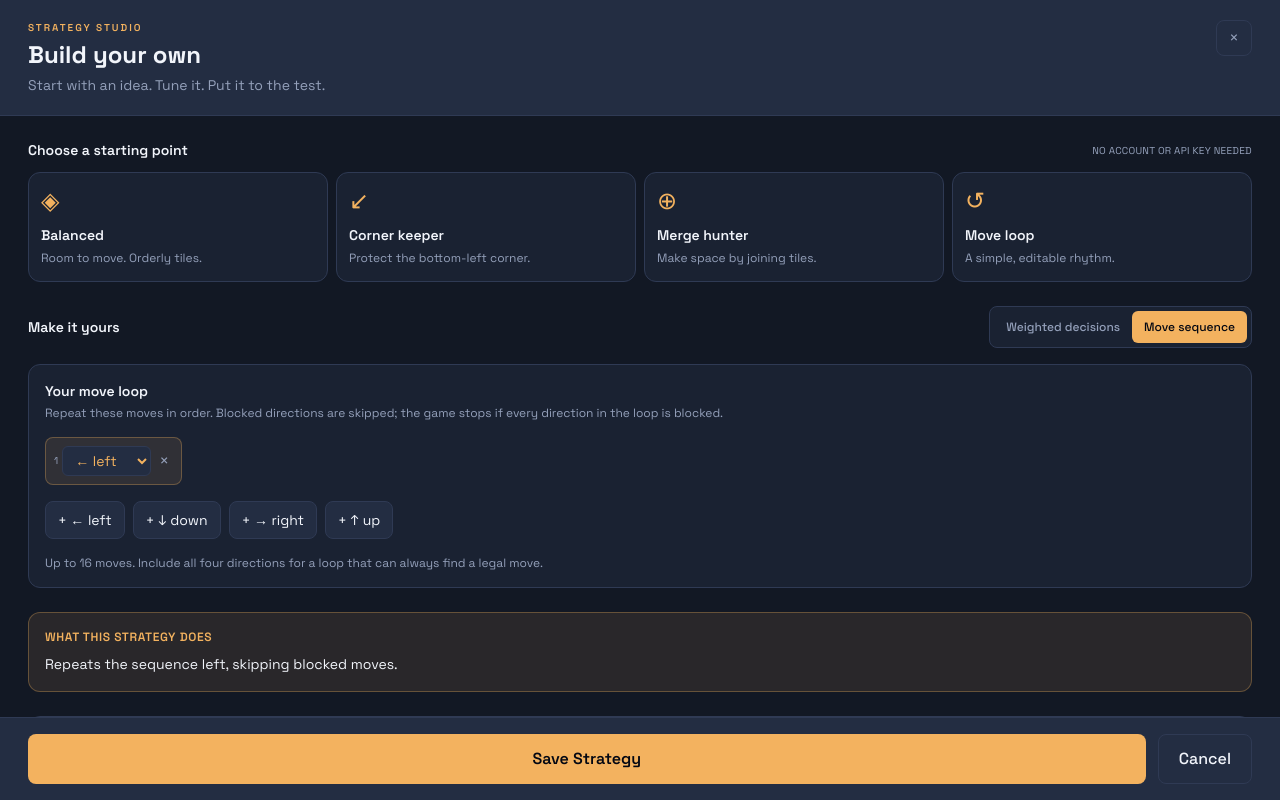
it: CustomStrategyBuilder › blocks saving an empty pattern with a readable error
Click the button named "Remove move 1".
click(164, 460)  # box x1=155 y1=448 x2=173 y2=472
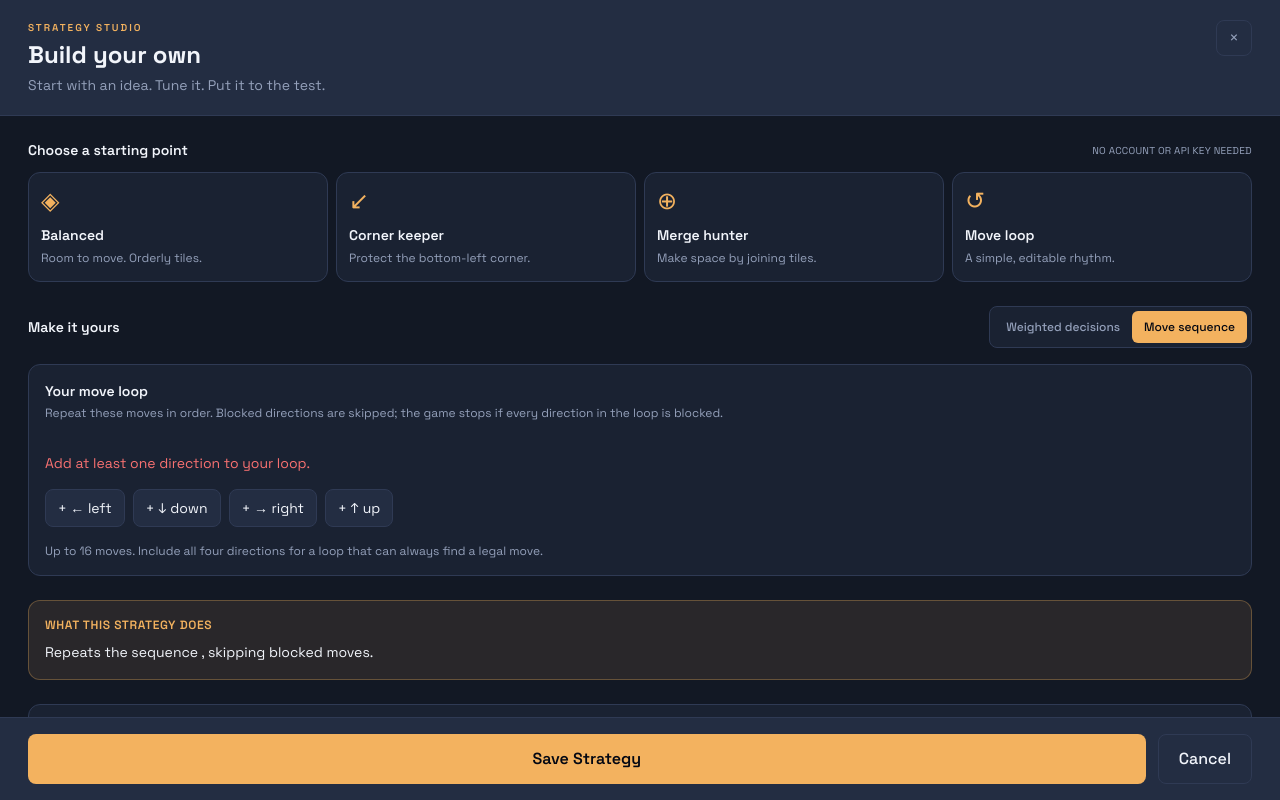
Click the button "Save Strategy".
click(587, 759)  # box x1=28 y1=734 x2=1146 y2=784
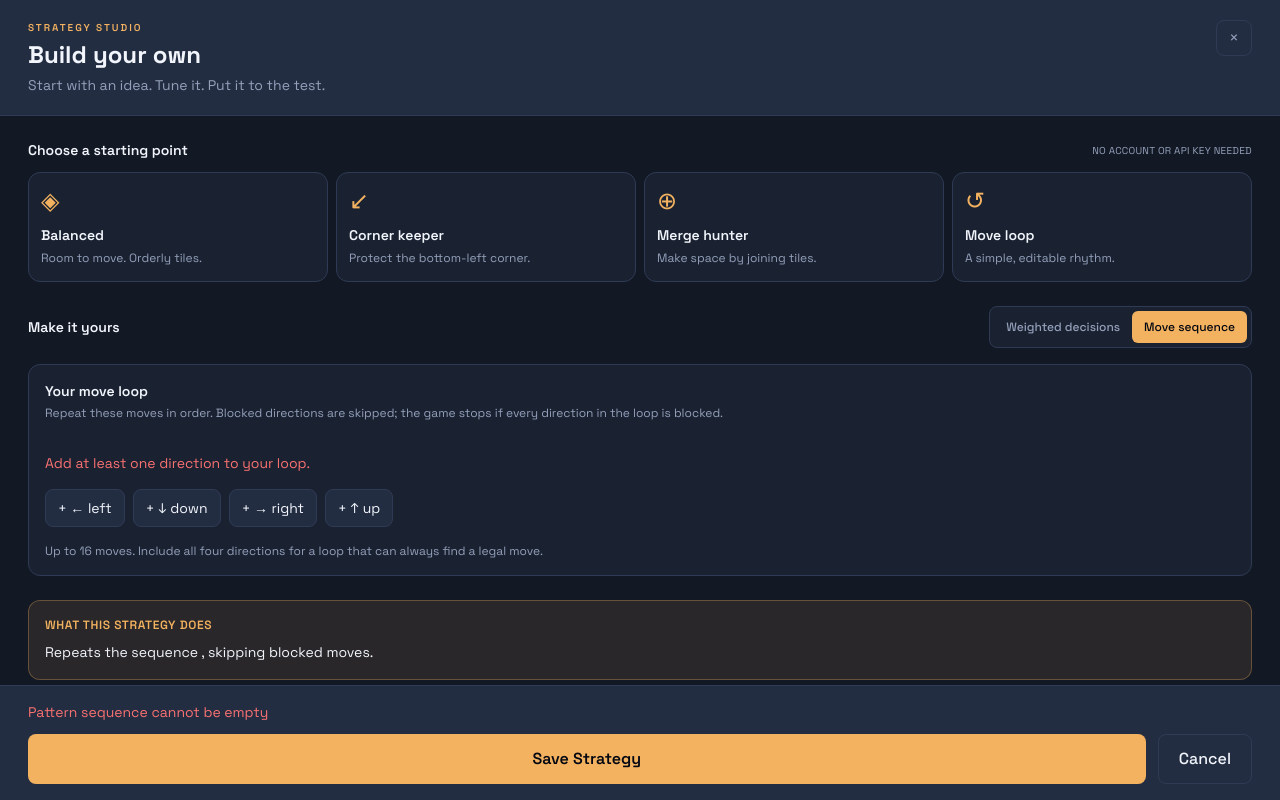
Expected: the text "Pattern sequence cannot be empty" is shown, x1=28 y1=703 x2=268 y2=721
